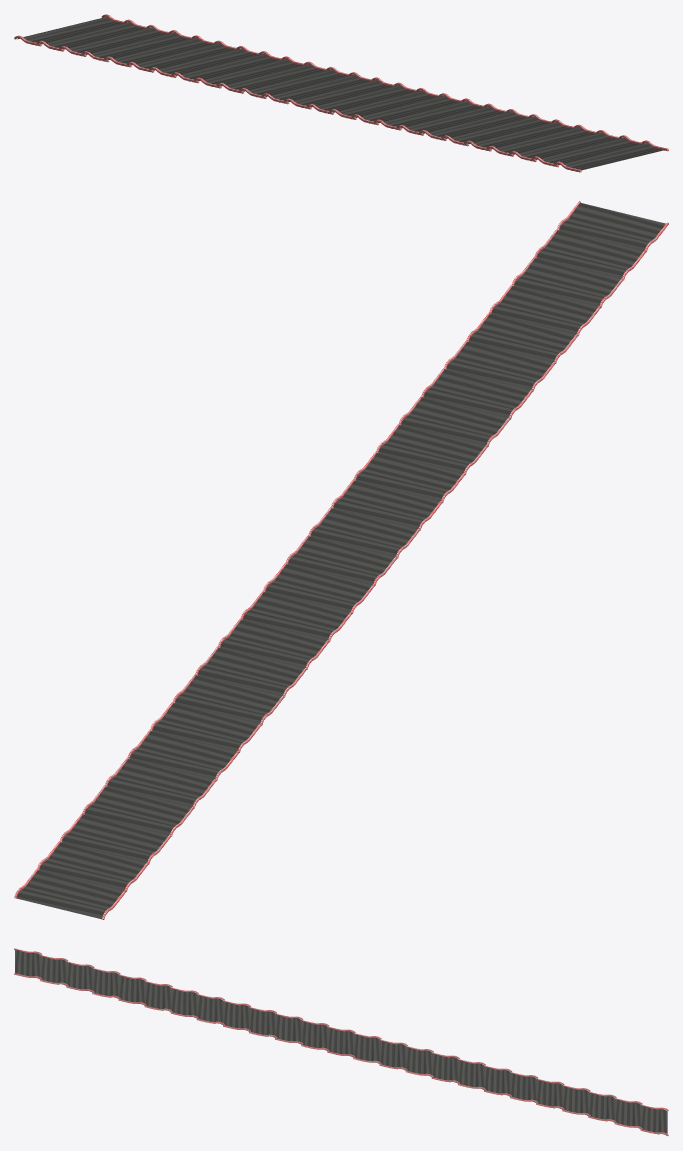
The model's file is uneven.fbx.
3 renders of one model, top to bottom at view 1: azimuth 30°, elevation 25°; view 2: azimuth 150°, elevation 25°; view 3: azimuth 270°, elevation 25°, orthographic. The views are drawn at different scales.
Visible parts, largest first — view 1: First Line; view 2: First Line; view 3: First Line.
Boxes of the visible parts, x1=… form: First Line: x1=14, y1=14, x2=668, y2=172; First Line: x1=14, y1=201, x2=668, y2=919; First Line: x1=14, y1=948, x2=668, y2=1135.
Size of the model in its own units: 5673 by 16764 by 60989.
